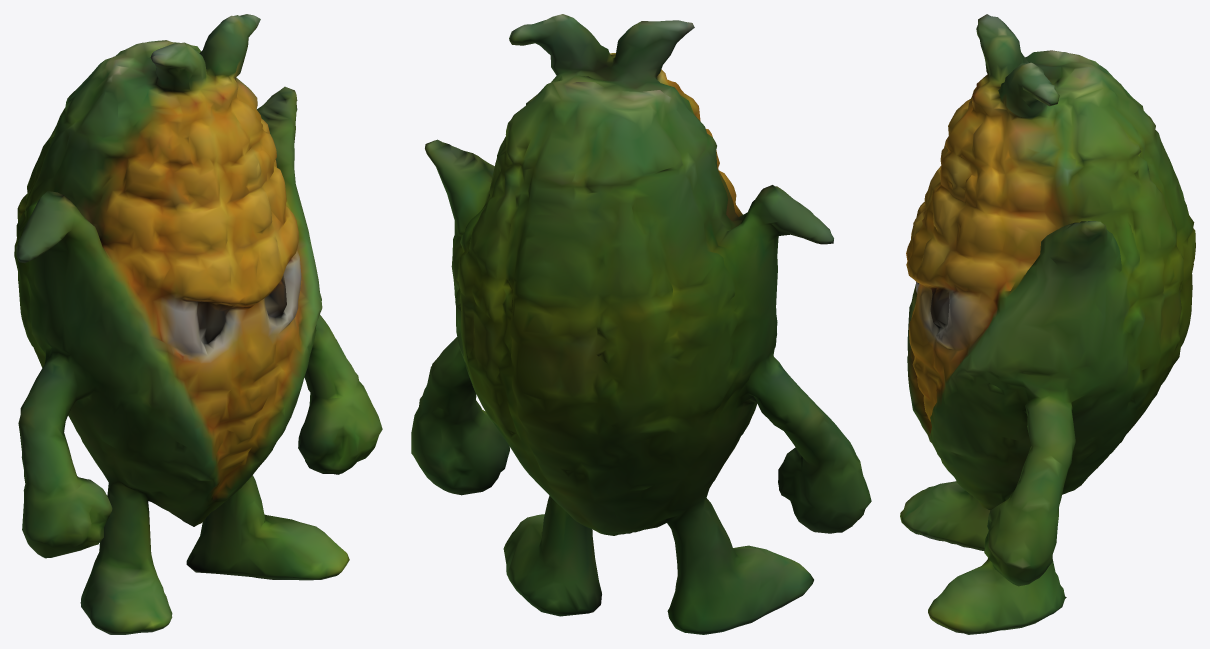
File: corn.glb
3 views of the same model, side by side, from view 1: azimuth 30°, elevation 25°; view 2: azimuth 150°, elevation 25°; view 3: azimuth 270°, elevation 25° (orthographic). The views are drawn at different scales.
Parts seen in each view (by area): view 1: corn; view 2: corn; view 3: corn.
Part boxes in pixels (x1,y1,x2,y2): corn: [14, 14, 382, 634]; corn: [411, 14, 871, 634]; corn: [900, 14, 1195, 634].
Size of the model in its own units: 0.8863 by 1.2 by 0.5899.
